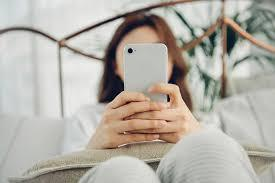Hand: (96, 95, 167, 153), (126, 85, 199, 141)
Smartphone: (126, 49, 171, 137)
